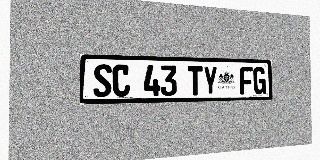3: (161, 65, 177, 96)
4: (144, 65, 160, 96)
C: (112, 64, 130, 97)
F: (240, 67, 253, 94)
G: (253, 67, 266, 94)
S: (93, 64, 112, 97)
T: (188, 66, 203, 95)
Y: (203, 66, 217, 95)
